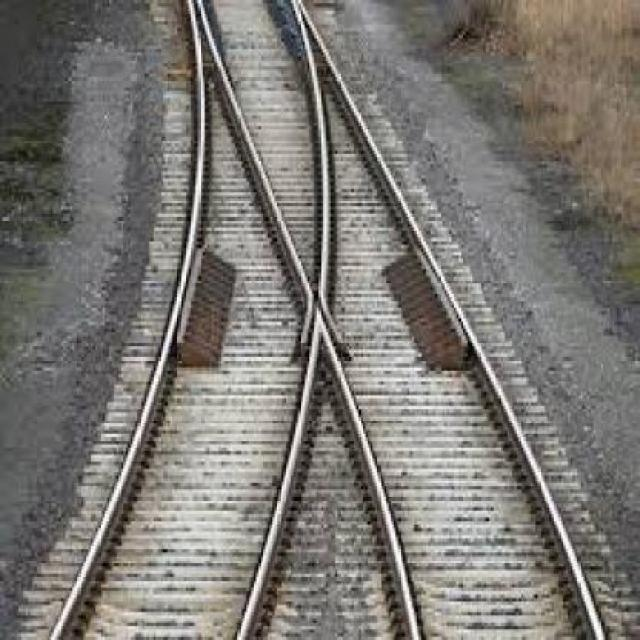rail: (9, 9, 633, 630)
